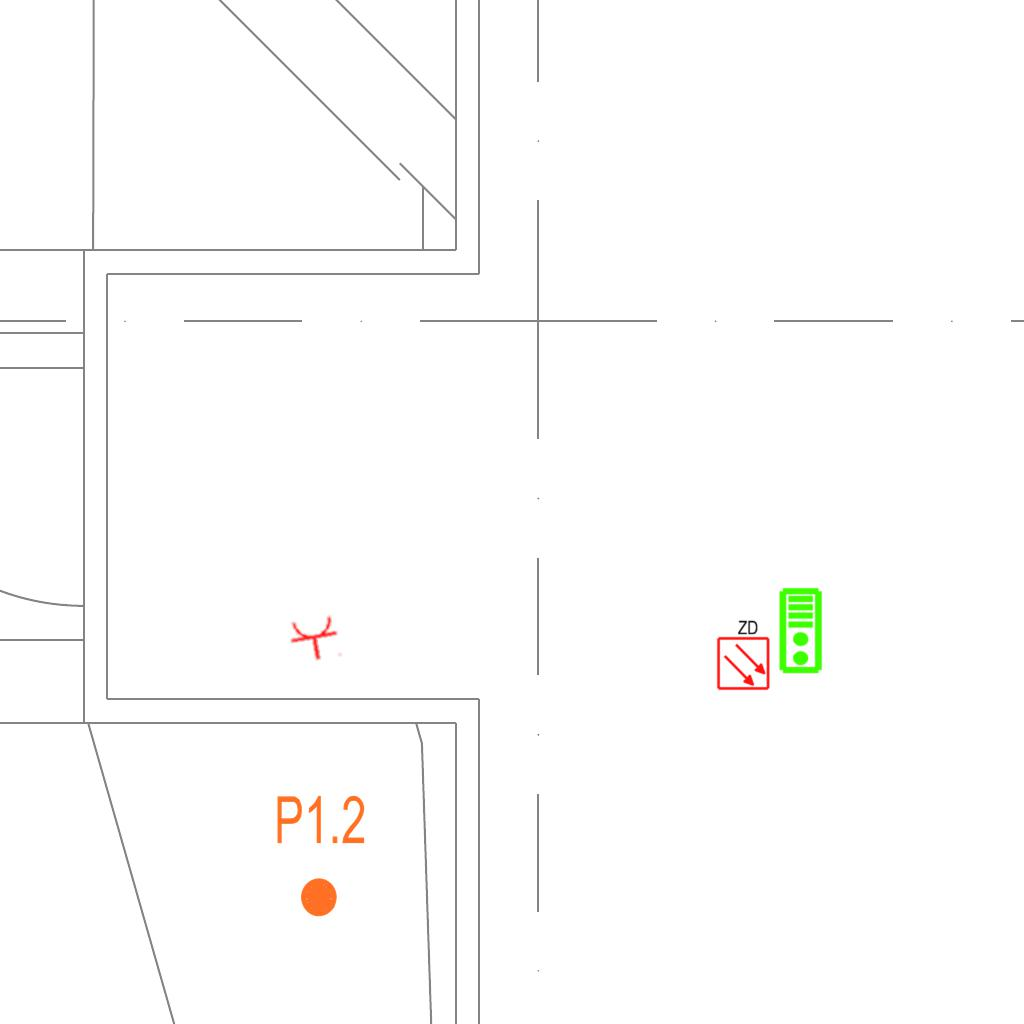Downlight_LED_Einbauleuchten_Flur: (274, 792, 367, 920)
Gegensprechanlage_mit_Video: (778, 587, 825, 675)
Schukosteckdose_einfach: (287, 613, 344, 665)
ZD_Melder_in_Zwischendecke_mit_Revisionsoeffnung_mind_40_x_40_cm: (714, 617, 771, 691)
